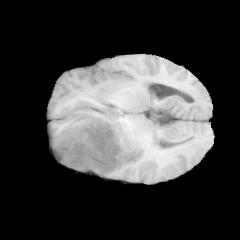glioma: (54, 112, 124, 177)
